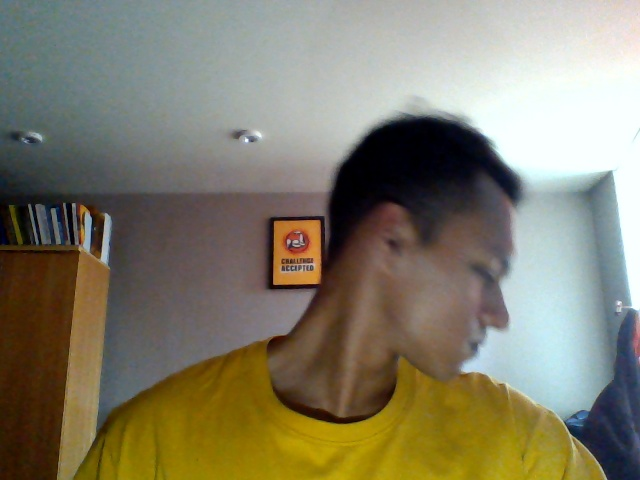no_mask: (387, 286, 529, 387)
